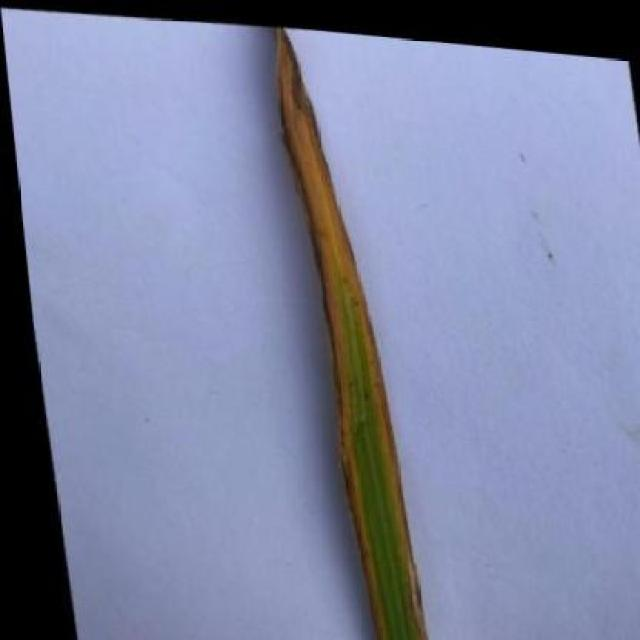Rice False Smut: (276, 23, 417, 640)
